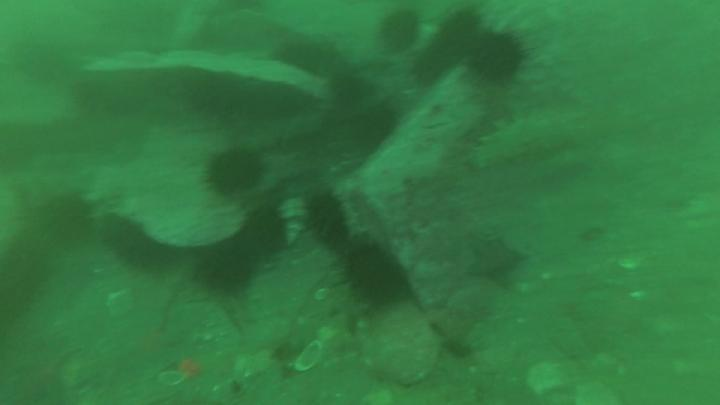holothurian: (470, 108, 592, 172), (345, 251, 406, 303), (105, 219, 169, 265), (303, 194, 348, 243), (195, 252, 250, 292), (205, 152, 262, 190), (242, 211, 287, 257), (477, 35, 523, 79), (443, 6, 484, 51), (348, 113, 393, 151), (274, 44, 321, 79), (380, 14, 415, 56), (412, 46, 449, 81), (330, 73, 368, 106)
scallop: (362, 308, 439, 384)
starfish: (471, 233, 527, 286)
